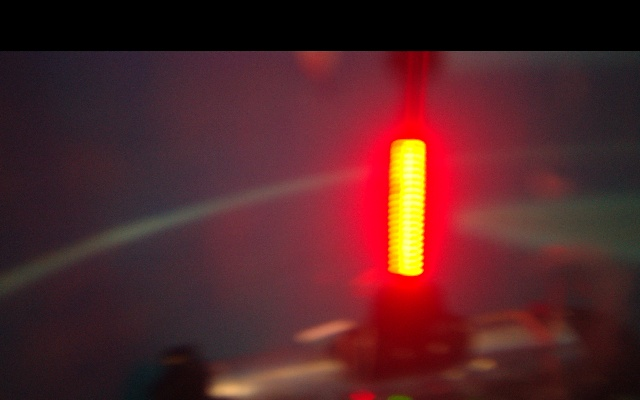red: (388, 140, 424, 280)
